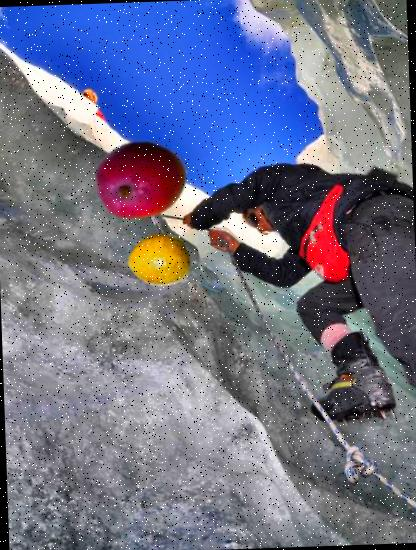Guava: (128, 228, 192, 292)
Mango: (93, 132, 190, 229)
